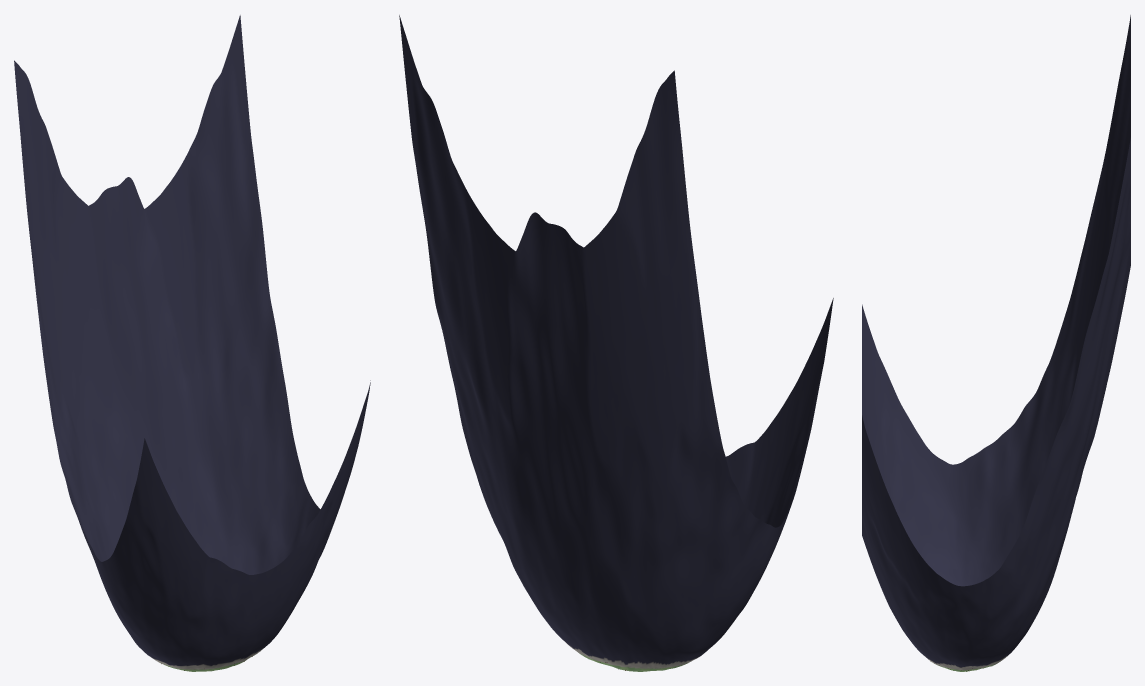
File: lake.glb
The picture shows the model from 3 angles, left to right: view 1: azimuth 30°, elevation 25°; view 2: azimuth 150°, elevation 25°; view 3: azimuth 270°, elevation 25°; orthographic projection. The views are drawn at different scales.
Parts seen in each view (by area): view 1: lake.terrain.0; view 2: lake.terrain.0; view 3: lake.terrain.0.
Part boxes in pixels (left/top/right/bottom): lake.terrain.0: left=14, top=15, right=370, bottom=671; lake.terrain.0: left=399, top=15, right=833, bottom=671; lake.terrain.0: left=862, top=15, right=1130, bottom=671.
Size of the model in its own units: 520 by 1255 by 520.
